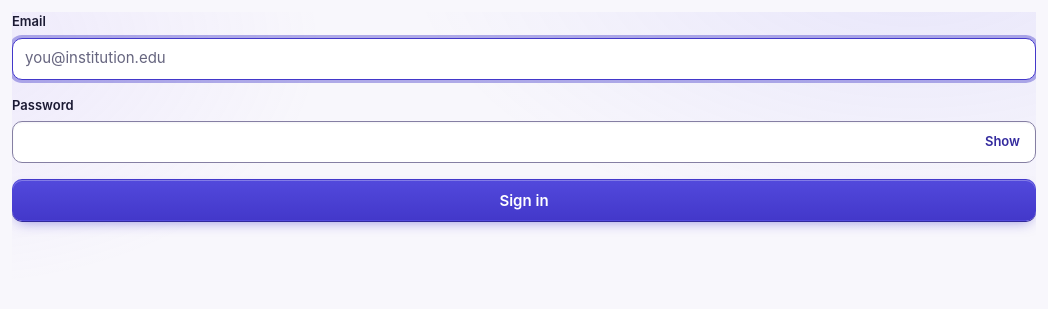
it: LoginForm (ISH-TC01..03) › shows the server error message when credentials are wrong and re-enables the button
The width and height of the screenshot is (1048, 309).
In the field labelled "Email": (524, 58) [12,38,1036,80], type "a@b.test"
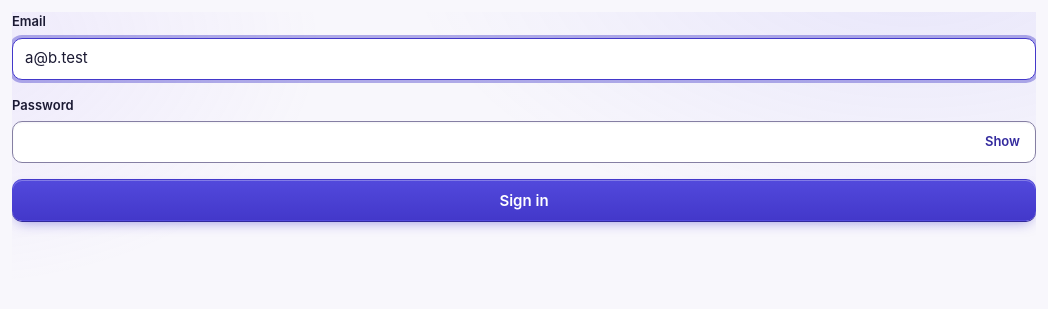
In the password field labelled "Password": (524, 142) [12,121,1036,163], type "nope"
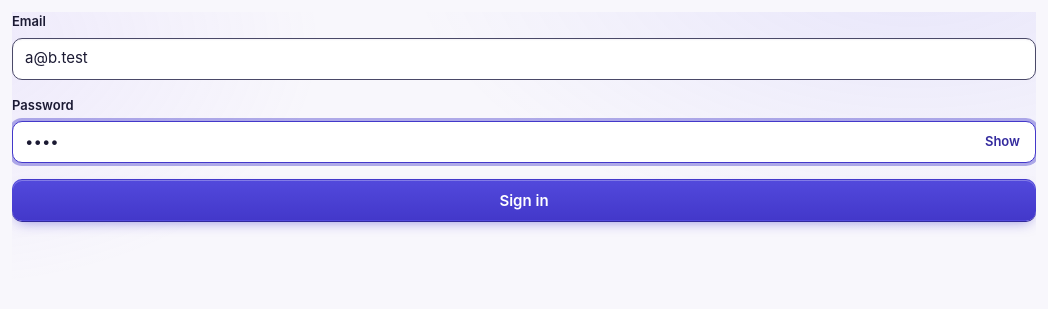
Click the button "Sign in": click(524, 200) [12,179,1036,221]
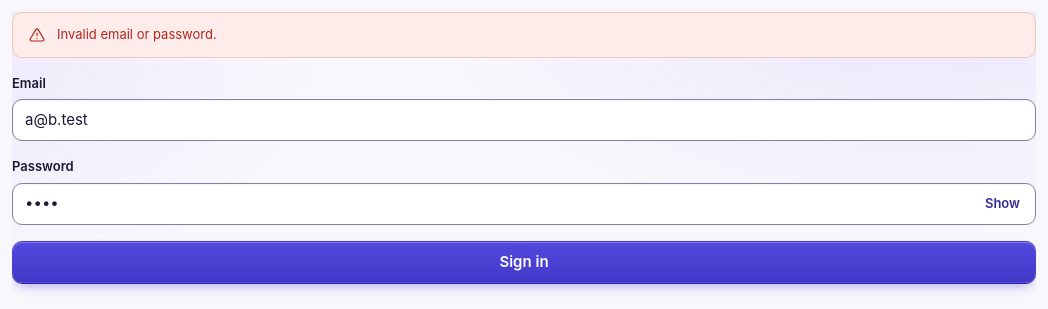
Expected: the button "Sign in" is enabled, [12,240,1036,282]
Expected: the message reads "Invalid email or password.", [57,26,217,42]
